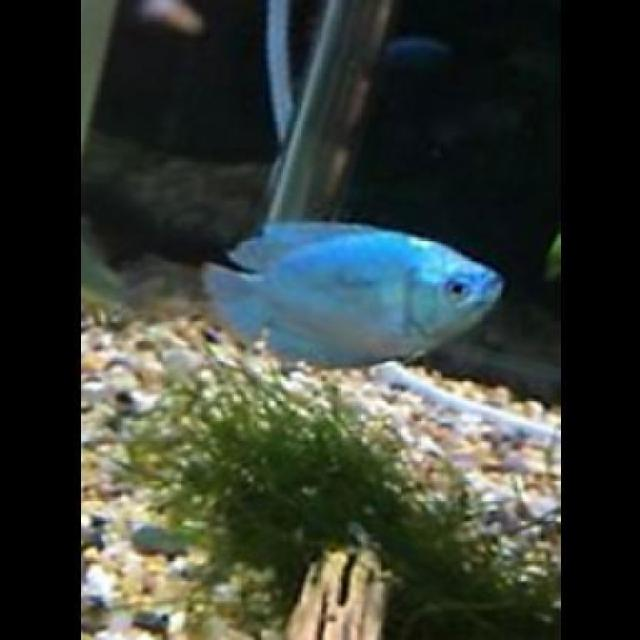Gourami: (202, 222, 502, 368)
